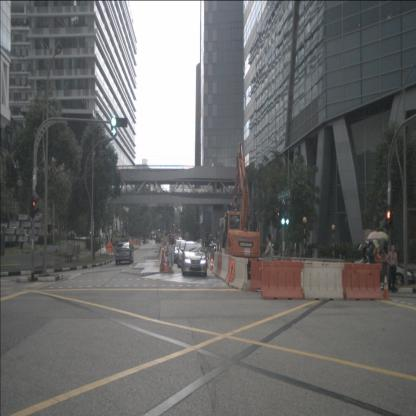barrier: (258, 259, 304, 301), (301, 258, 344, 302), (342, 260, 383, 301), (248, 256, 285, 294), (229, 255, 251, 292), (220, 252, 231, 286), (215, 250, 223, 280), (212, 250, 220, 276), (168, 246, 174, 274), (160, 245, 165, 272)
cone: (383, 273, 390, 301), (164, 258, 168, 274), (205, 256, 209, 270), (210, 256, 213, 272)
